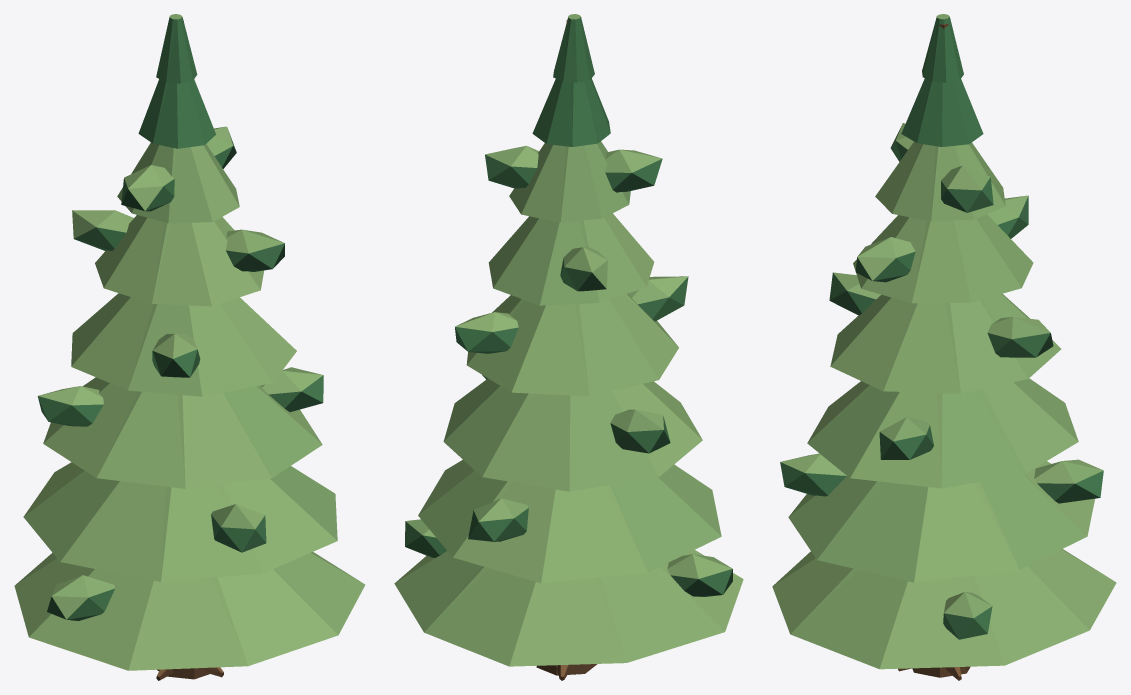
3 views of the same model, side by side, from view 1: azimuth 30°, elevation 25°; view 2: azimuth 150°, elevation 25°; view 3: azimuth 270°, elevation 25° (orthographic).
Parts seen in each view (by area): view 1: WK_Tree_Spruce_DeepNarrow_LOD0_High; view 2: WK_Tree_Spruce_DeepNarrow_LOD0_High; view 3: WK_Tree_Spruce_DeepNarrow_LOD0_High.
Part boxes in pixels (x1,y1,x2,y2): WK_Tree_Spruce_DeepNarrow_LOD0_High: (14, 14, 365, 680); WK_Tree_Spruce_DeepNarrow_LOD0_High: (394, 14, 743, 680); WK_Tree_Spruce_DeepNarrow_LOD0_High: (772, 14, 1116, 680).
Size of the model in its own units: 3.83 by 7.78 by 3.77.
